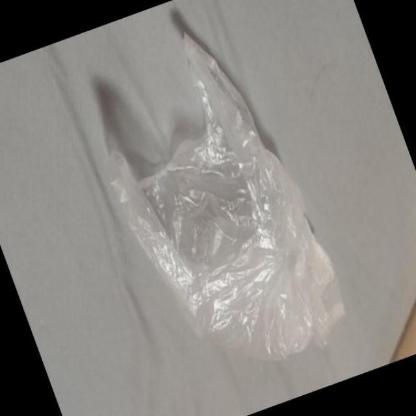Plastic Bag: (108, 31, 348, 360)
